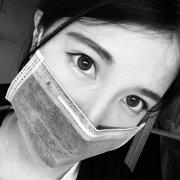WRONG: (19, 29, 155, 165)
